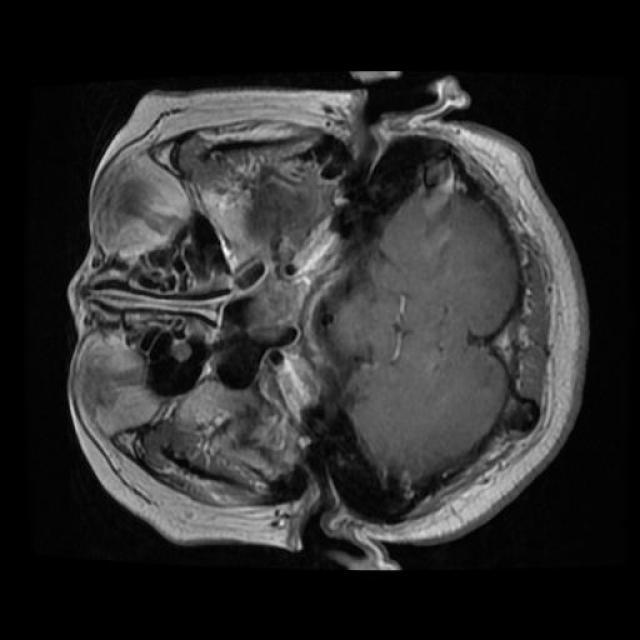Pituitary: (241, 268, 298, 343)
